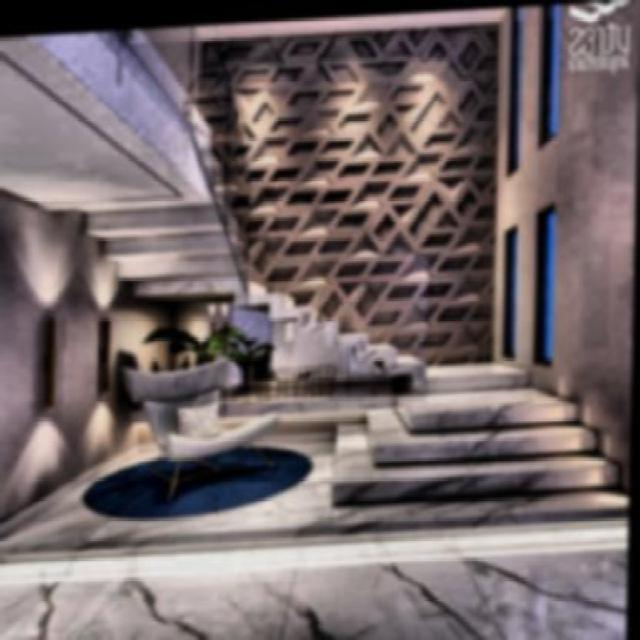stair: (324, 354, 624, 514)
